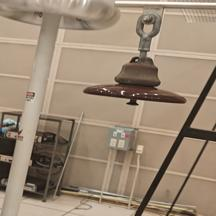insulator: (77, 50, 192, 114)
